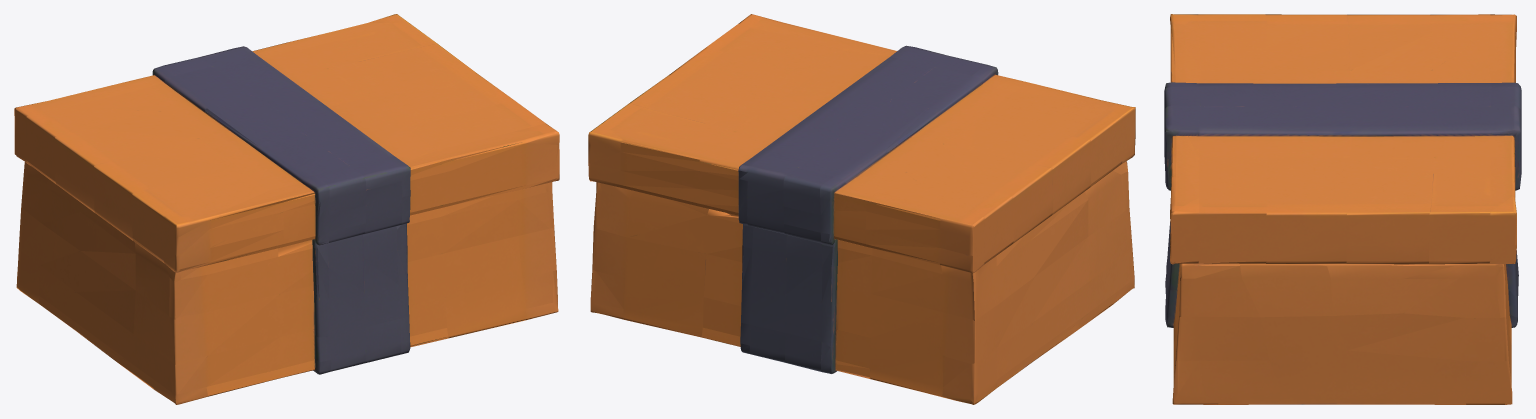
The model's file is ammoCrate.glb.
3 views of the same model, side by side, from view 1: azimuth 30°, elevation 25°; view 2: azimuth 150°, elevation 25°; view 3: azimuth 270°, elevation 25° (orthographic). The views are drawn at different scales.
Bounding box in the file's own units: 1 × 0.4707 × 0.7598.
Materials: 1 (1 with a texture image).
